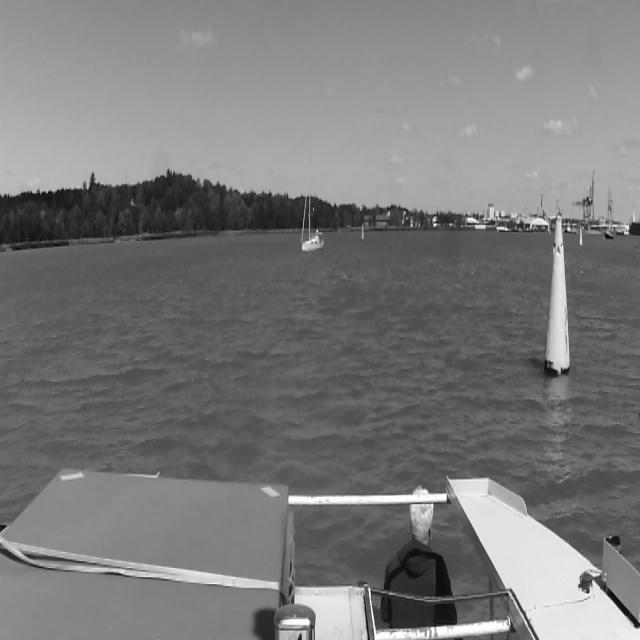buoy: (551, 217, 569, 371), (579, 228, 582, 245), (362, 225, 364, 239)
ship: (302, 183, 322, 253)
